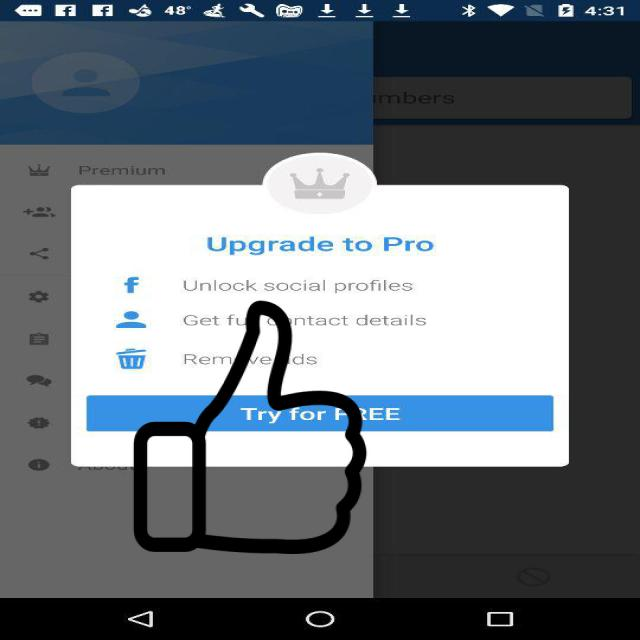privacy zuckering: (130, 301, 370, 554)
